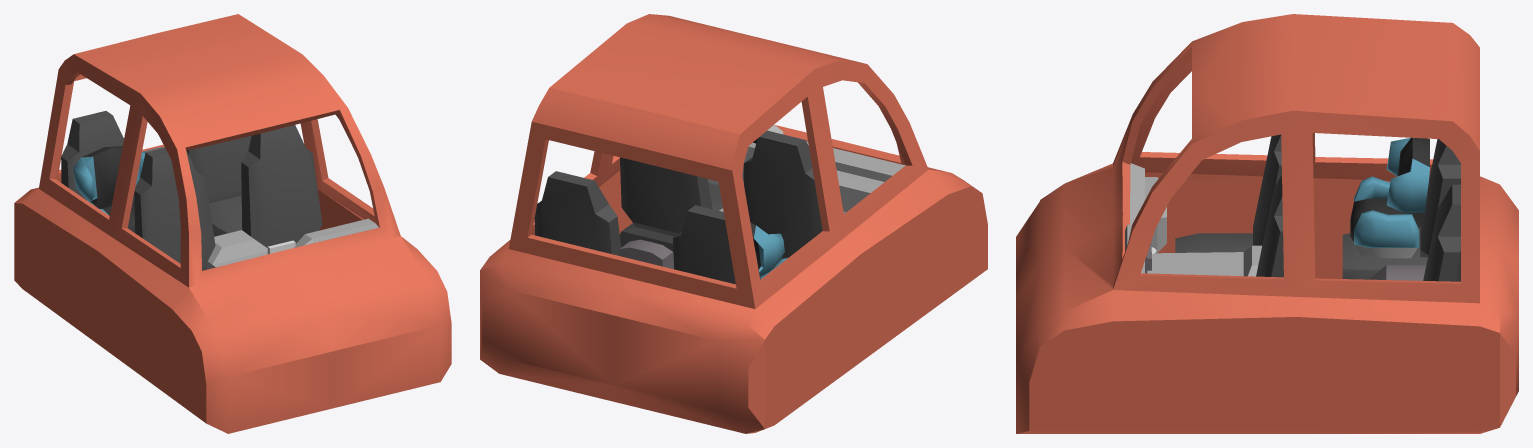
The model's file is low poly car.glb.
3 views of the same model, side by side, from view 1: azimuth 30°, elevation 25°; view 2: azimuth 150°, elevation 25°; view 3: azimuth 270°, elevation 25° (orthographic). The views are drawn at different scales.
Visible parts, largest first — view 1: frame, front seats, back seats, baby seat, counter; view 2: frame, front seats, back seats, counter, baby seat; view 3: frame, baby seat, back seats, front seats, counter.
Boxes of the visible parts, x1,y1,x2,y2 form: frame: (14,14,451,433); front seats: (134,125,322,270); back seats: (61,111,251,236); baby seat: (73,146,145,232); counter: (206,218,378,269); frame: (480,14,987,433); front seats: (620,130,822,267); back seats: (534,171,760,284); counter: (707,125,905,213); baby seat: (750,222,787,279); frame: (1016,14,1518,433); baby seat: (1350,137,1429,258); back seats: (1342,139,1460,281); front seats: (1175,134,1283,277); counter: (1125,163,1261,276).
Bounding box in the file's own units: 1.96 × 1.93 × 2.84.
